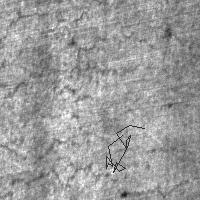crazing: (1, 106, 129, 188), (1, 47, 136, 101), (106, 125, 144, 172)
